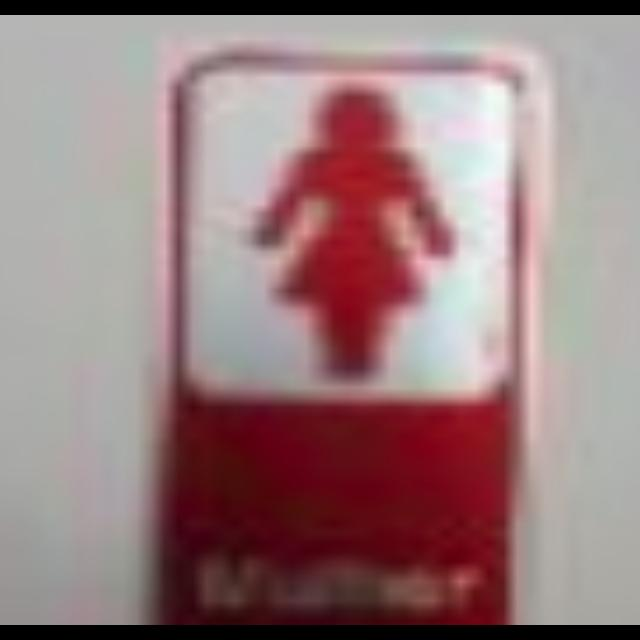womens_restroom: (152, 44, 547, 625)
